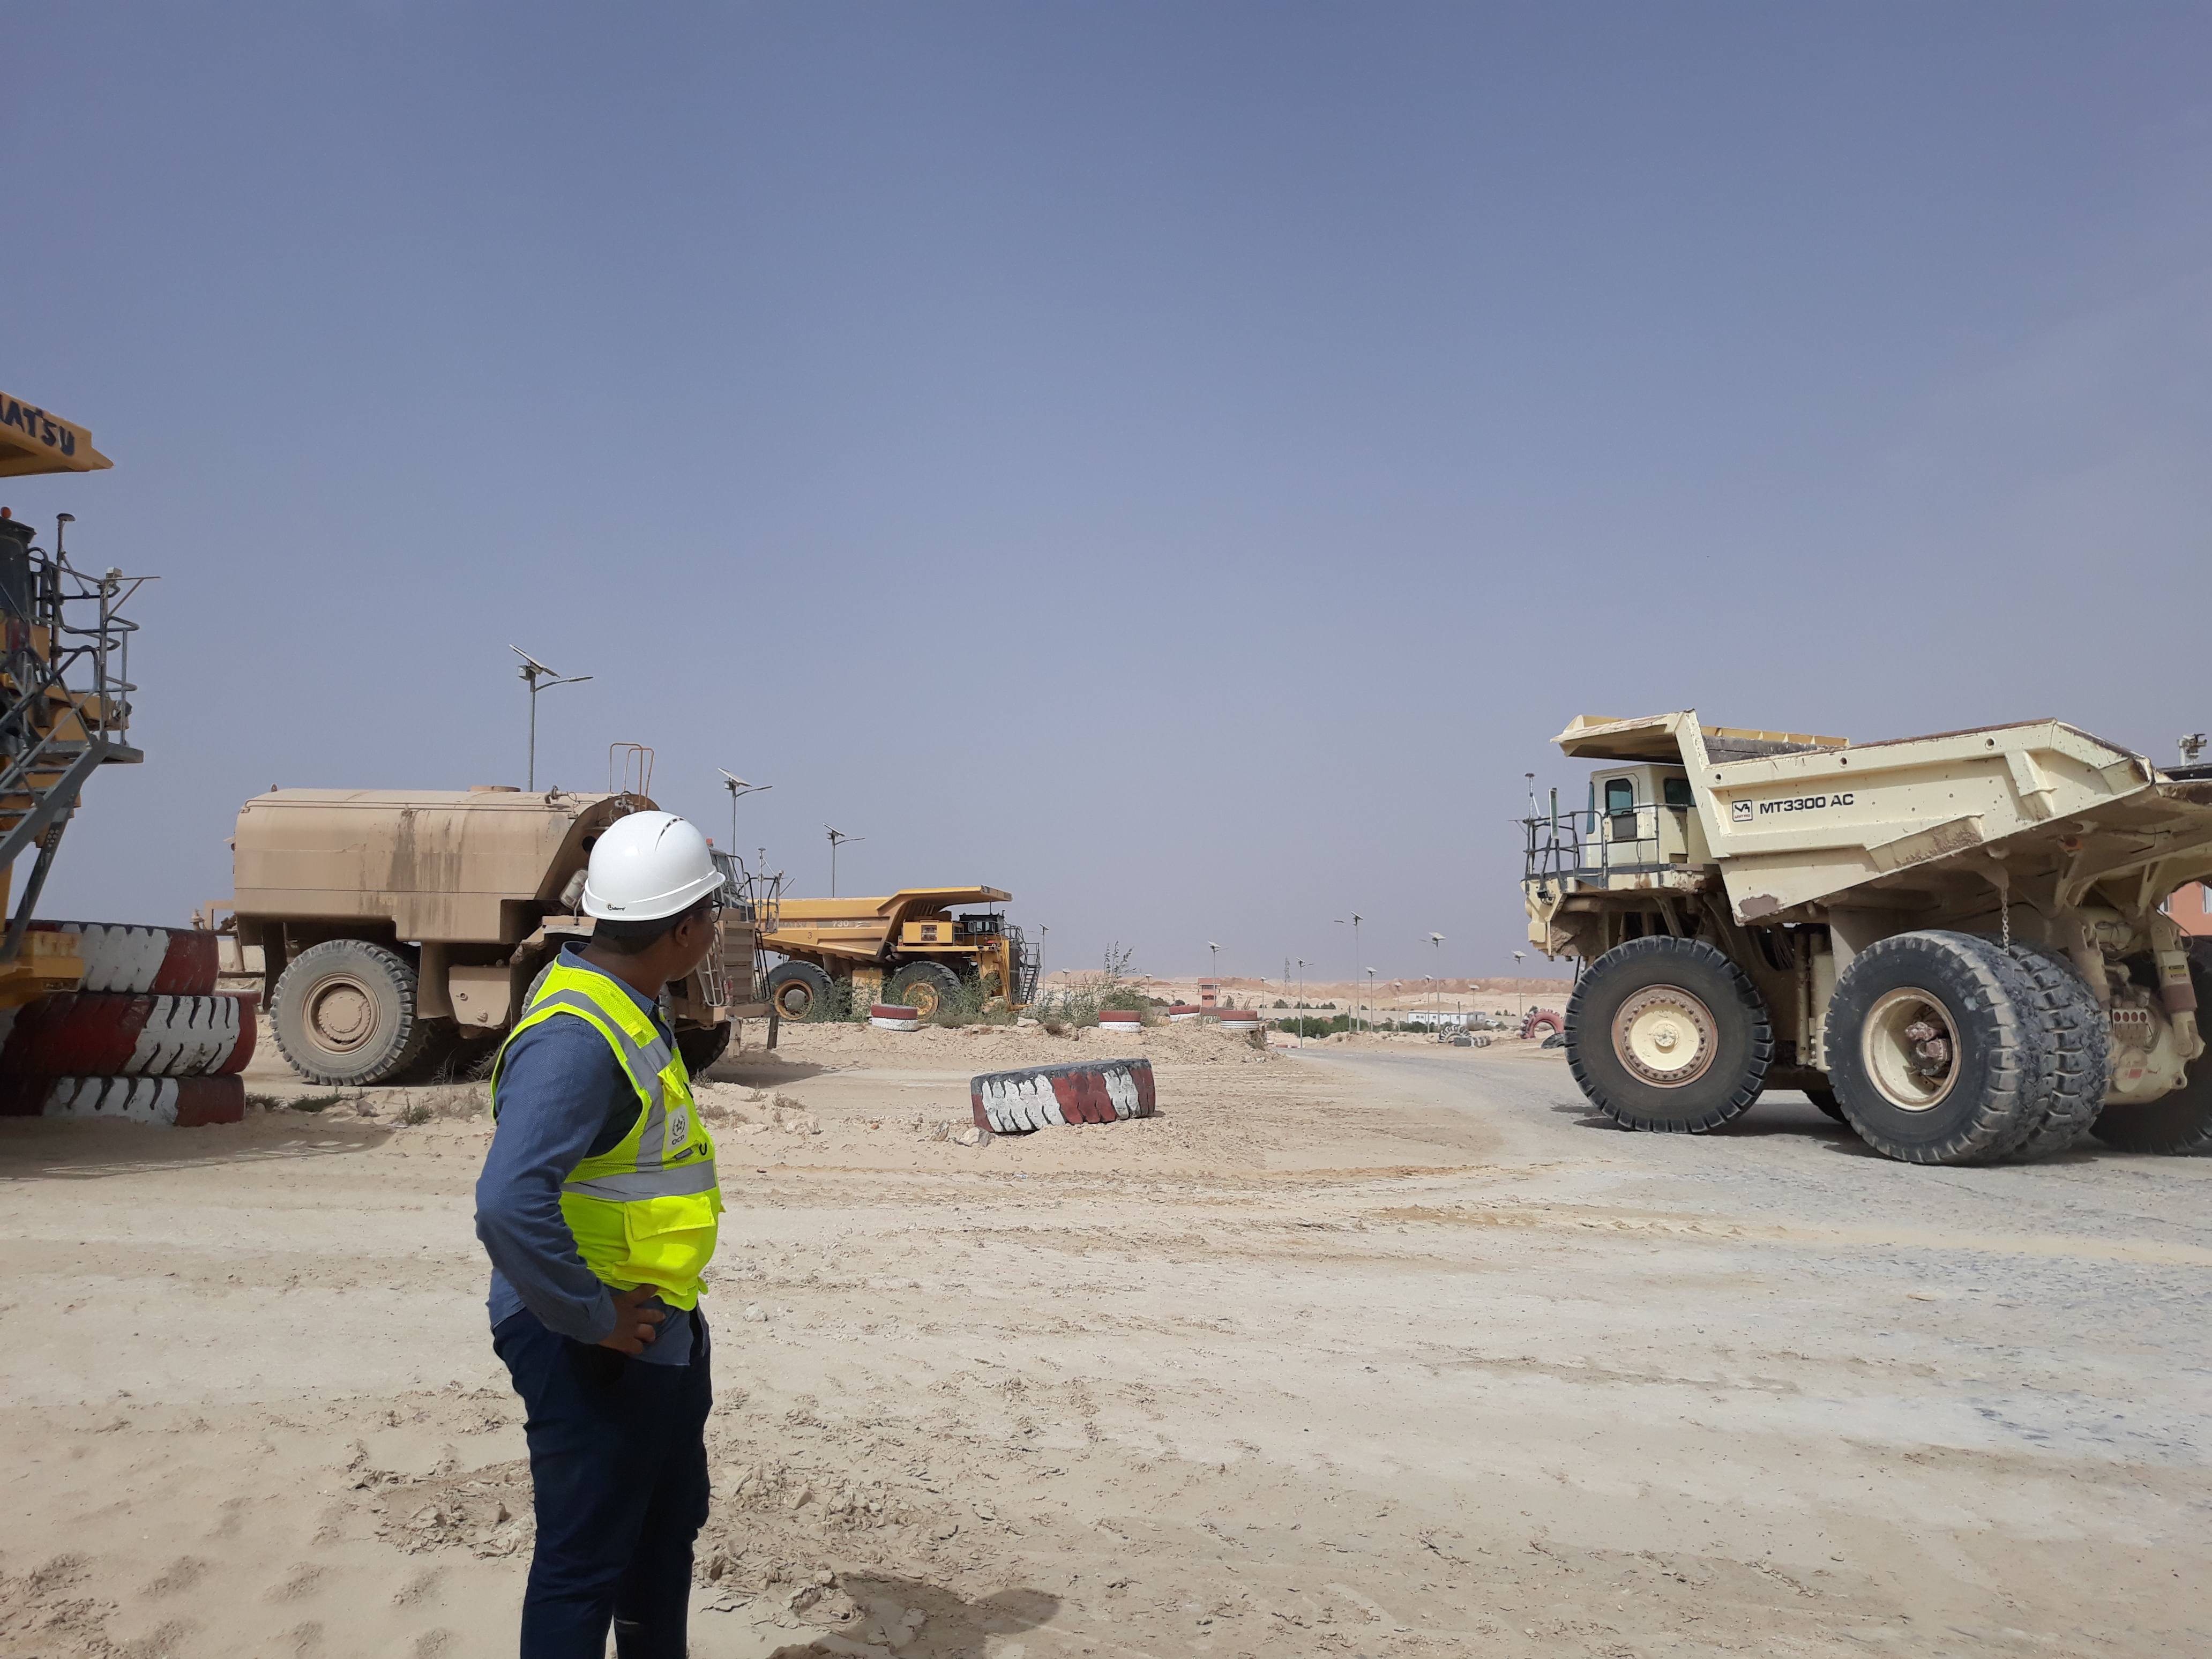camion: (1473, 668, 2212, 1202), (710, 880, 1049, 1048)
person: (461, 801, 742, 1659)
